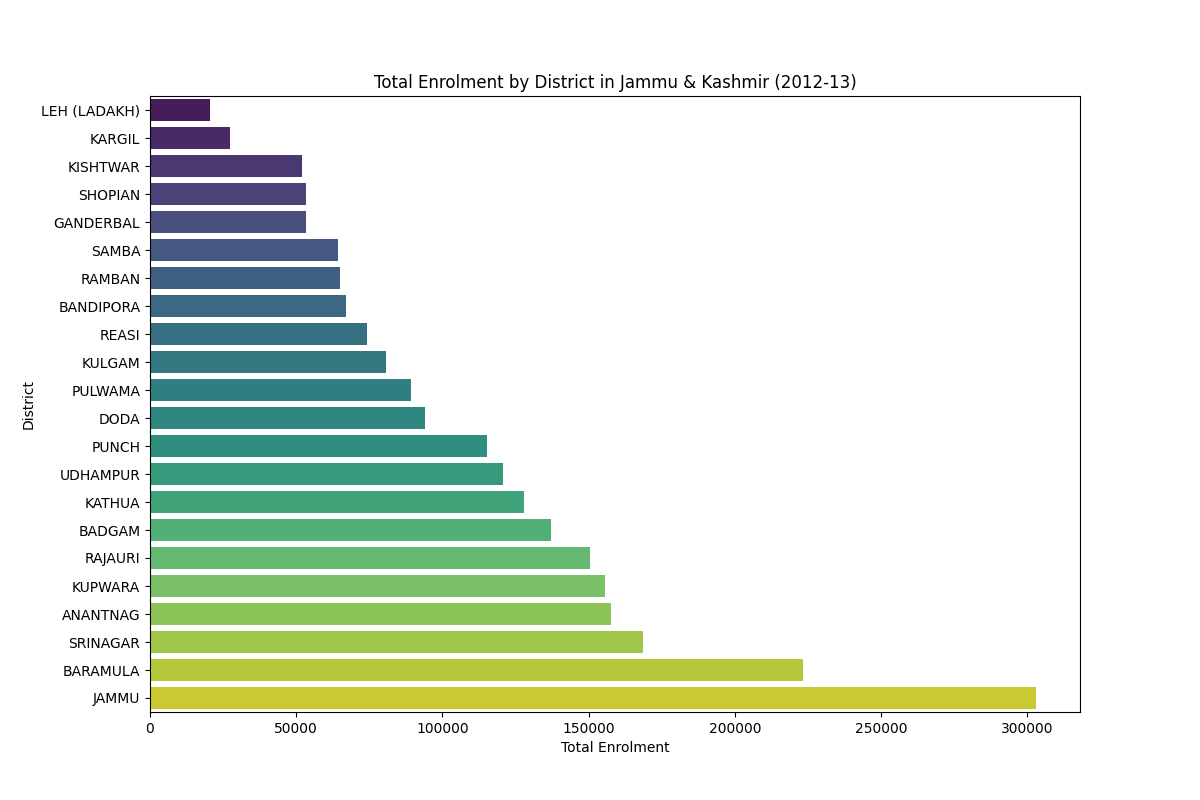

The page's visual inventory and layout, read from the dashboard file:
{"tool":"tableau","page":{"name":"Dashboard 1","canvas":[1000,1000],"units":"permille","ordinal":0},"visuals":[{"type":"worksheet","title":"Sheet 2","mark":"Bar","rows":["count"],"cols":["date","date"],"box":[1.8,480.7,991,499.4]}]}

Visuals, with their boxes on the dashboard's canvas, which has no fixed pixel size, in thousandths of its width and height (x1, y1, x2, y2). These are canvas units, not pixel positions in the 1200x800 screenshot, which may show the page scaled, cropped or inside an application window:
"Sheet 2" worksheet (Bar marks): 2, 481, 993, 980
